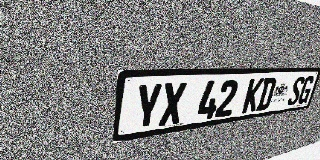2: (214, 79, 239, 118)
4: (196, 80, 222, 121)
D: (255, 78, 277, 111)
G: (297, 76, 315, 105)
K: (241, 78, 264, 113)
S: (286, 76, 306, 106)
X: (158, 82, 187, 127)
Y: (133, 83, 163, 131)
